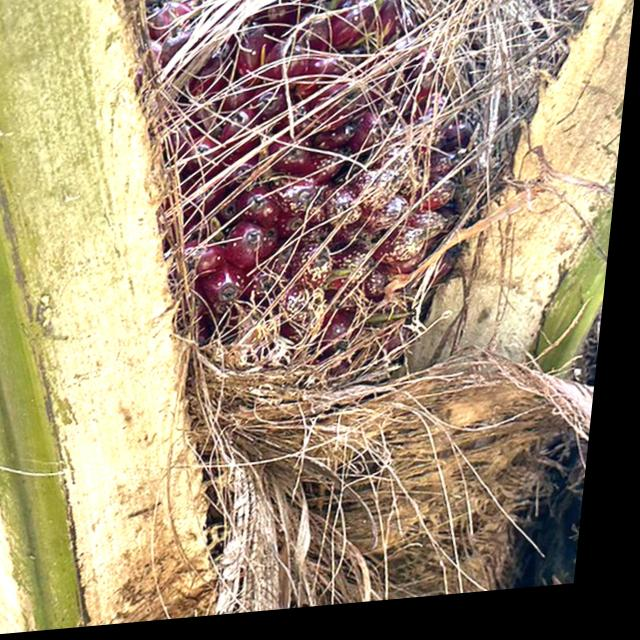ripe: (59, 0, 568, 441)
